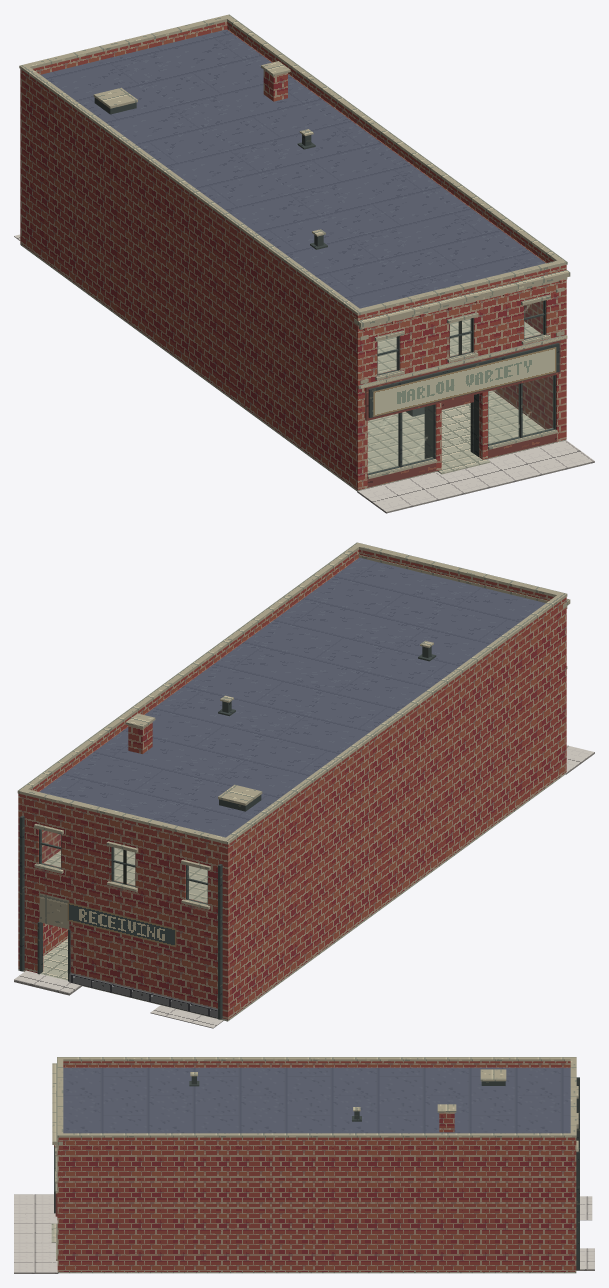
File: marlow-1970-mid.glb
3 views of the same model, one above another, from view 1: azimuth 30°, elevation 25°; view 2: azimuth 150°, elevation 25°; view 3: azimuth 270°, elevation 25° (orthographic). The views are drawn at different scales.
Parts seen in each view (by area): view 1: building_shell, roof_and_parapet, Shared street sidewalk, sign_name; view 2: building_shell, roof_and_parapet, sign_receiving, Rear receiving pad, lot; view 3: building_shell, roof_and_parapet, Shared street sidewalk, Rear receiving pad, lot.
Boxes of the visible parts, <box> form: building_shell: <box>20,29,567,491</box>; roof_and_parapet: <box>19,14,570,330</box>; Shared street sidewalk: <box>357,440,594,513</box>; sign_name: <box>373,347,556,416</box>; building_shell: <box>18,557,567,1021</box>; roof_and_parapet: <box>17,542,570,854</box>; sign_receiving: <box>67,902,176,947</box>; Rear receiving pad: <box>14,970,81,995</box>; lot: <box>150,1005,223,1028</box>; building_shell: <box>51,1067,579,1273</box>; roof_and_parapet: <box>52,1057,576,1147</box>; Shared street sidewalk: <box>14,1194,58,1273</box>; Rear receiving pad: <box>576,1248,594,1270</box>; lot: <box>580,1196,592,1220</box>.
Size of what is drawn, in the model's own units: 10.05 by 9.06 by 31.36.
10 materials, 10 textured.
